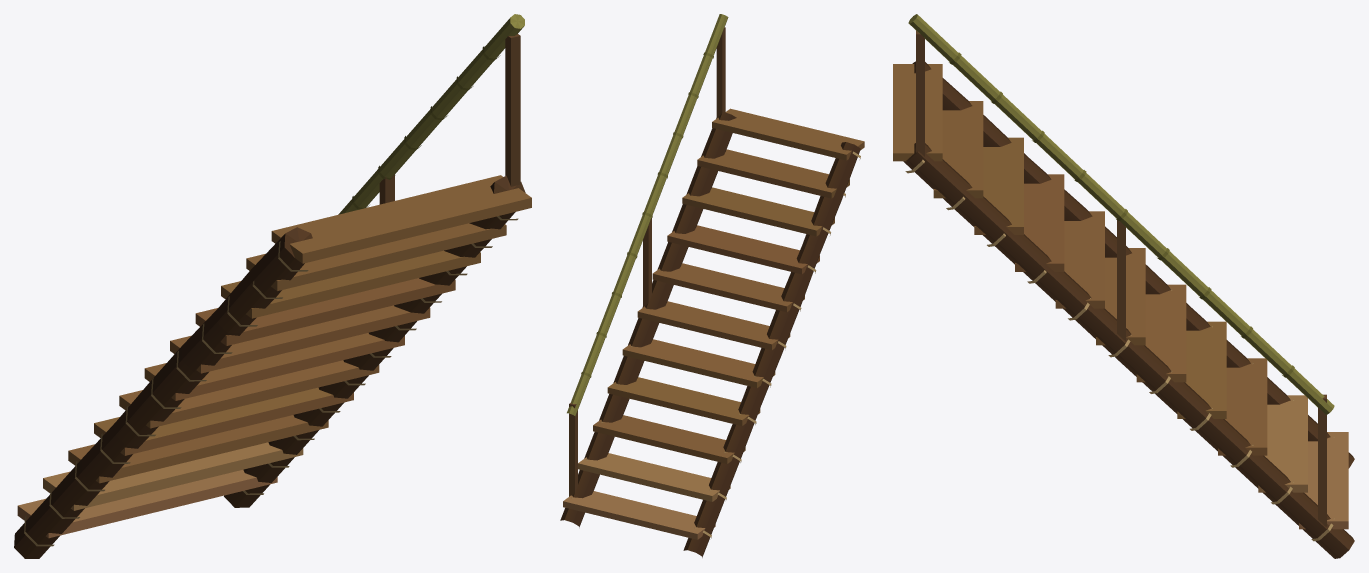
File: stairs.glb
3 views of the same model, side by side, from view 1: azimuth 30°, elevation 25°; view 2: azimuth 150°, elevation 25°; view 3: azimuth 270°, elevation 25° (orthographic). The views are drawn at different scales.
Parts seen in each view (by area): view 1: b_stairs_solid; view 2: b_stairs_solid; view 3: b_stairs_solid.
Part boxes in pixels (x1=…): b_stairs_solid: x1=14, y1=14, x2=531, y2=558; b_stairs_solid: x1=560, y1=14, x2=864, y2=557; b_stairs_solid: x1=893, y1=14, x2=1354, y2=558.
Size of the model in its own units: 1.51 by 4.05 by 3.1.
